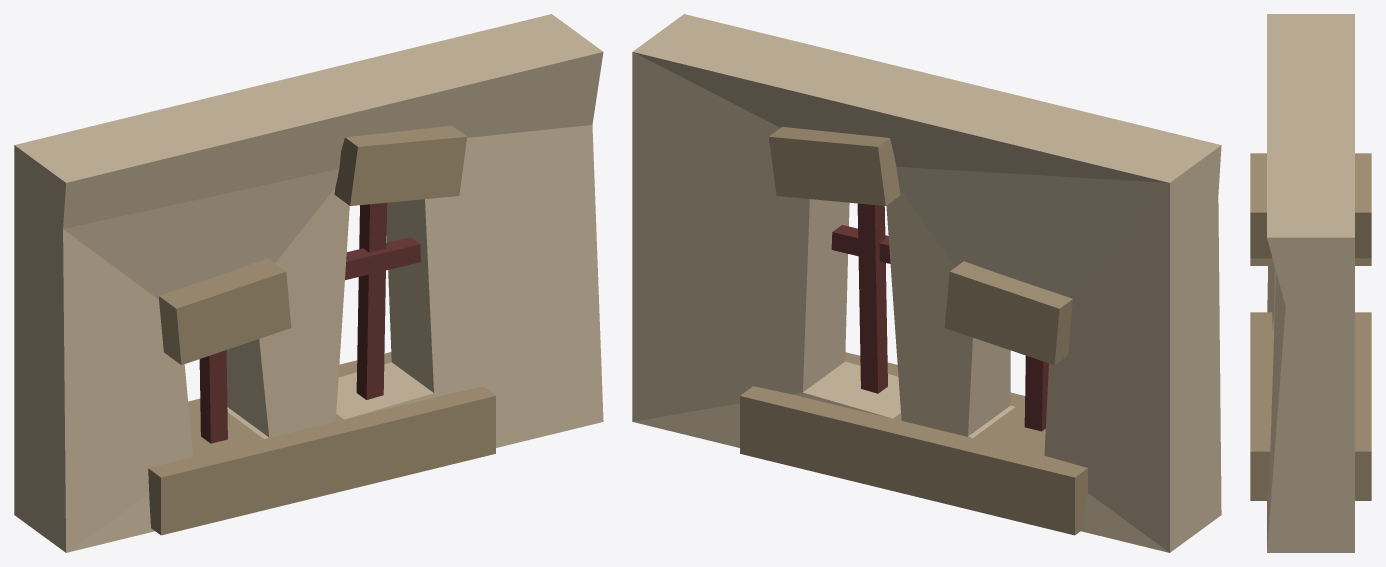
Rendered from LightSandStoneWallSmallCrookedWindowed1.fbx.
The picture shows the model from 3 angles, left to right: view 1: azimuth 30°, elevation 25°; view 2: azimuth 150°, elevation 25°; view 3: azimuth 270°, elevation 25°; orthographic projection. The views are drawn at different scales.
Visible parts, largest first — view 1: LightSandStoneWallSmallCrookedWindowed1, WindowBars; view 2: LightSandStoneWallSmallCrookedWindowed1, WindowBars; view 3: LightSandStoneWallSmallCrookedWindowed1, WindowBars.
Boxes of the visible parts, bbox=[...] form: LightSandStoneWallSmallCrookedWindowed1: bbox=[14, 14, 603, 552]; WindowBars: bbox=[148, 125, 495, 535]; LightSandStoneWallSmallCrookedWindowed1: bbox=[632, 14, 1221, 552]; WindowBars: bbox=[740, 127, 1087, 535]; LightSandStoneWallSmallCrookedWindowed1: bbox=[1267, 14, 1354, 552]; WindowBars: bbox=[1250, 153, 1371, 500].
Size of the model in its own units: 600 by 395 by 138.
